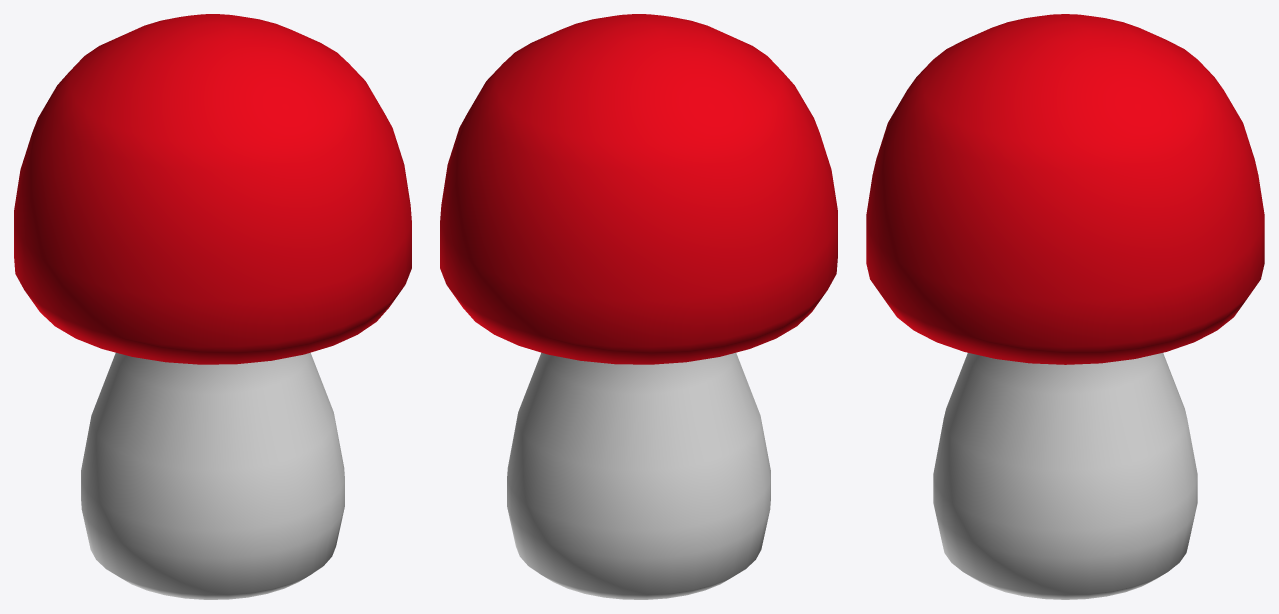
The model's file is paddo.fbx.
The picture shows the model from 3 angles, left to right: view 1: azimuth 30°, elevation 25°; view 2: azimuth 150°, elevation 25°; view 3: azimuth 270°, elevation 25°; orthographic projection.
Parts seen in each view (by area): view 1: Circle.001, Circle; view 2: Circle.001, Circle; view 3: Circle.001, Circle.
Part boxes in pixels (x1,y1,x2,y2): Circle.001: (14,14,411,364); Circle: (81,352,344,599); Circle.001: (440,14,837,364); Circle: (507,352,770,599); Circle.001: (866,14,1264,364); Circle: (933,353,1197,599).
Bounding box in the file's own units: 330 × 476 × 330.
